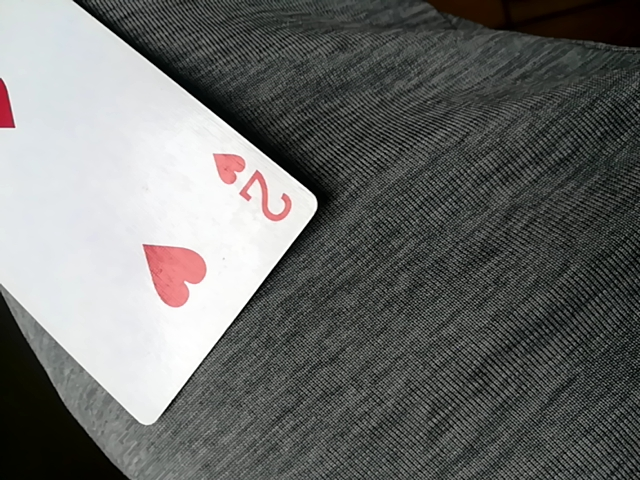hx 2: (0, 2, 324, 434)
